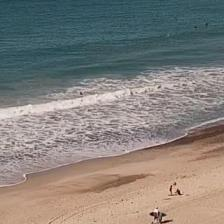surfer: (157, 85, 162, 89), (205, 22, 208, 25), (194, 26, 198, 28), (80, 92, 83, 94)
